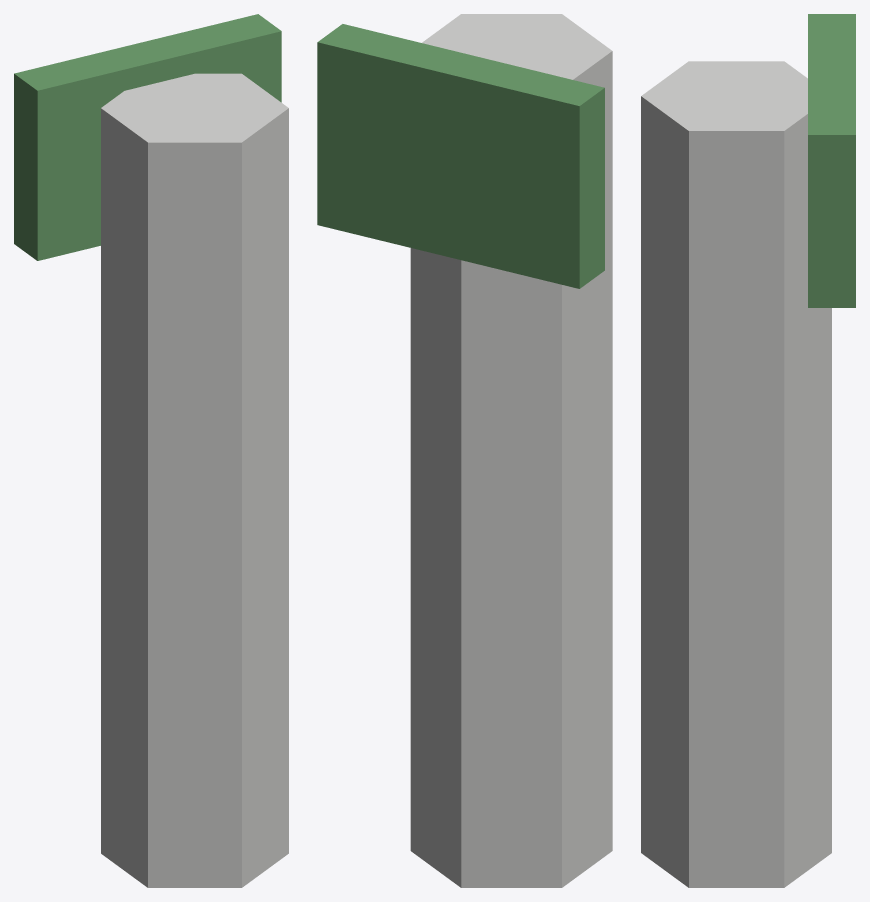
The model's file is yardage_100.glb.
3 views of the same model, side by side, from view 1: azimuth 30°, elevation 25°; view 2: azimuth 150°, elevation 25°; view 3: azimuth 270°, elevation 25° (orthographic). The views are drawn at different scales.
Visible parts, largest first — view 1: Yardage100; view 2: Yardage100; view 3: Yardage100.
Part boxes in pixels (x1,y1,x2,y2): Yardage100: (14, 14, 288, 887); Yardage100: (317, 14, 612, 887); Yardage100: (641, 14, 855, 887).
Size of the model in its own units: 0.12 by 0.36 by 0.09.
